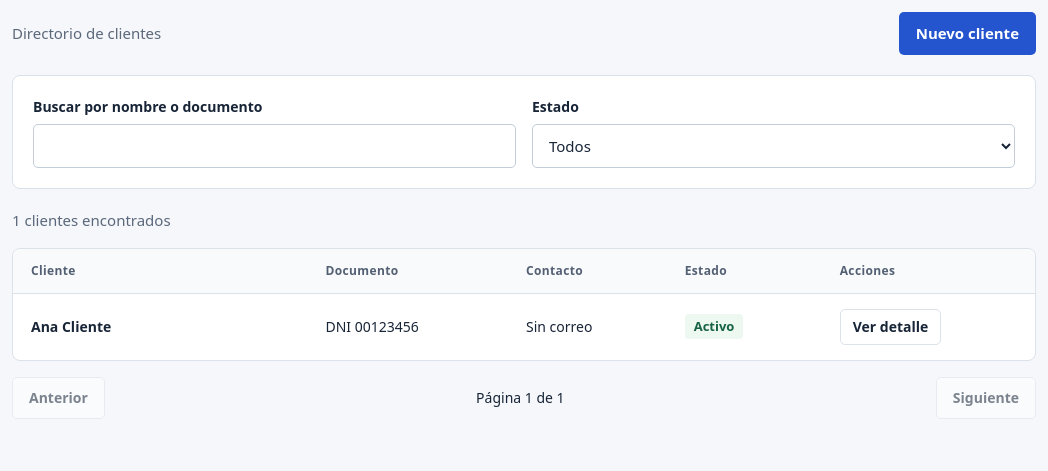
Test: permisos de clientes › respeta el rol owner
The width and height of the screenshot is (1048, 471).
Expected: the text "Ana Cliente" is shown, [13,294,308,360]
Click the button "Ver detalle".
click(890, 326)  # box [840,308,941,344]
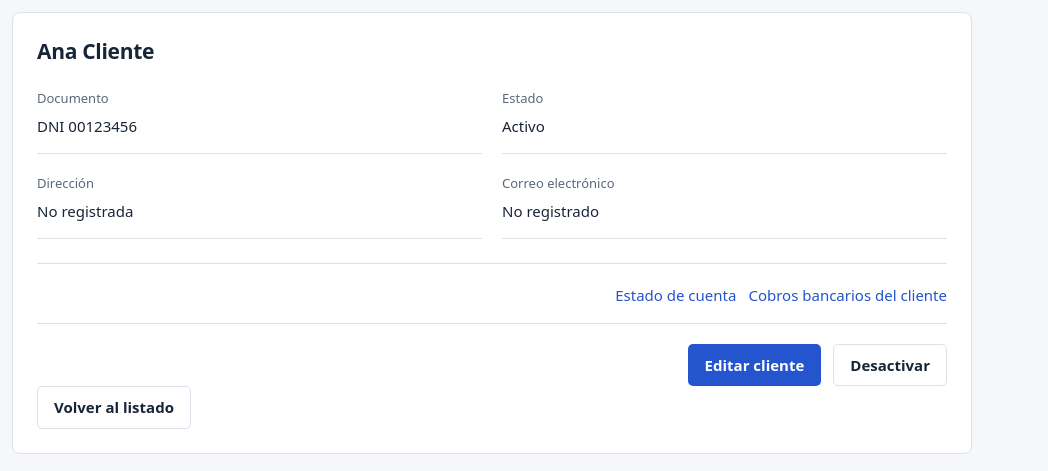
Expected: the text "No registrada" is shown, [37,201,133,221]
